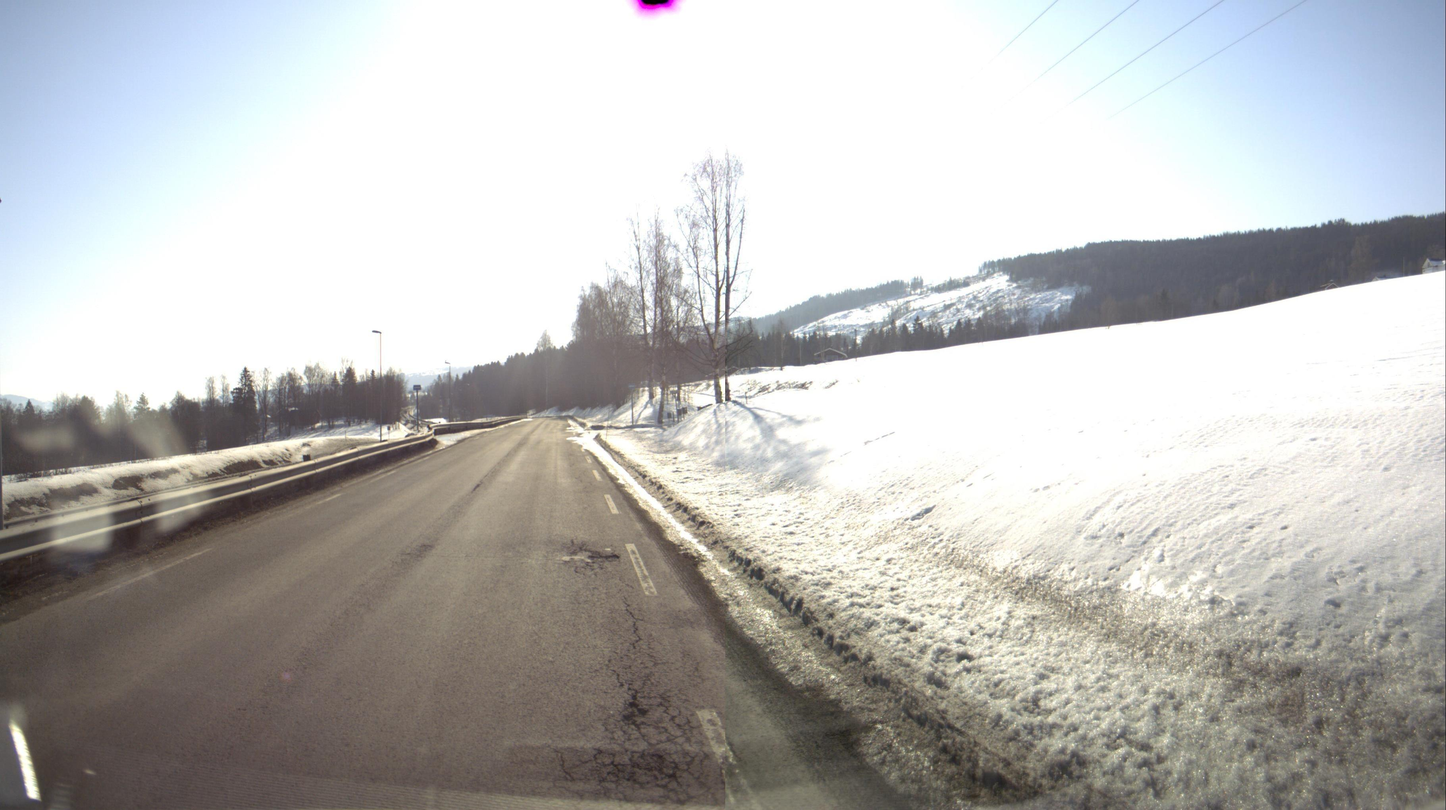pothole: (558, 544, 621, 568)
